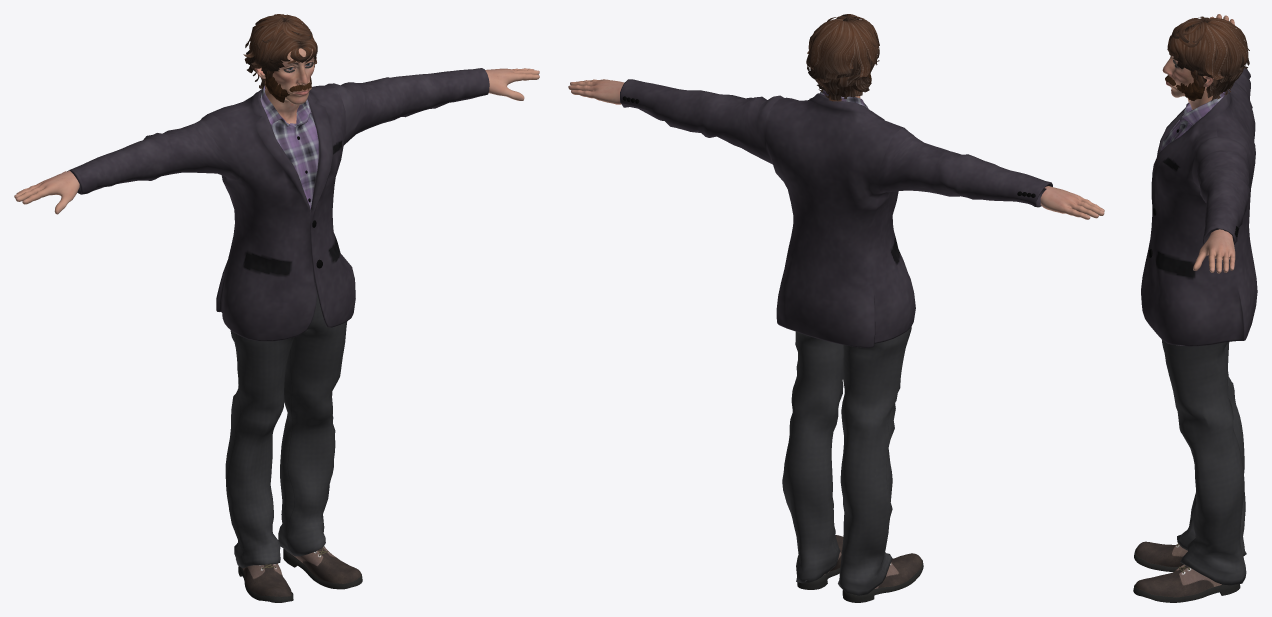
File: Tux.obj
3 views of the same model, side by side, from view 1: azimuth 30°, elevation 25°; view 2: azimuth 150°, elevation 25°; view 3: azimuth 270°, elevation 25° (orthographic).
Parts seen in each view (by area): view 1: Tops, Bottoms, Body, Shoes, Hair; view 2: Tops, Bottoms, Hair, Body, Shoes; view 3: Tops, Bottoms, Hair, Shoes, Body, Beards.
Boxes of the visible parts, box(x1,y1,x2,y2) form: Tops: box(67, 68, 489, 341); Bottoms: box(225, 289, 347, 568); Body: box(14, 48, 539, 214); Shoes: box(238, 546, 362, 602); Hair: box(243, 14, 317, 88); Tops: box(620, 79, 1052, 347); Bottoms: box(782, 327, 911, 595); Hair: box(806, 14, 879, 102); Body: box(568, 79, 1104, 219); Shoes: box(797, 535, 923, 602); Tops: box(1141, 66, 1257, 346); Bottoms: box(1161, 339, 1246, 585); Hair: box(1167, 16, 1249, 101); Shoes: box(1133, 541, 1240, 602); Body: box(1162, 14, 1235, 273); Beards: box(1176, 79, 1204, 100).
Size of the model in its own units: 183 by 187 by 37.48.
1 material, 1 textured.
